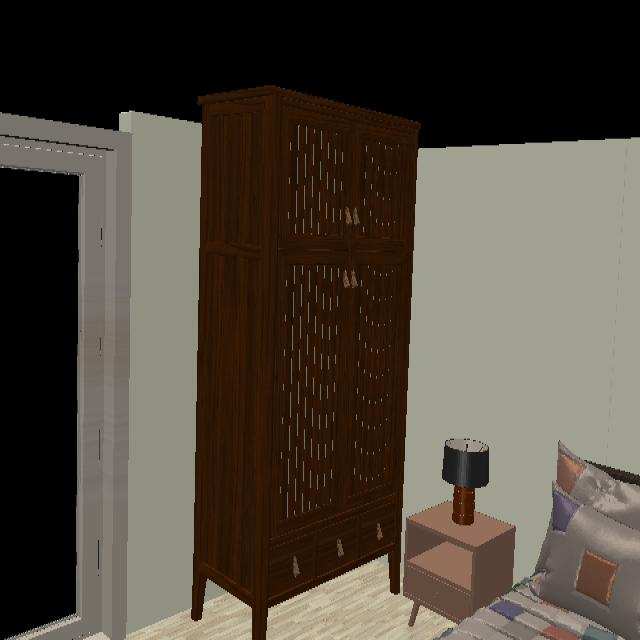bed: (444, 525, 640, 640), (403, 440, 517, 625)
wardrobe: (191, 85, 421, 640)
